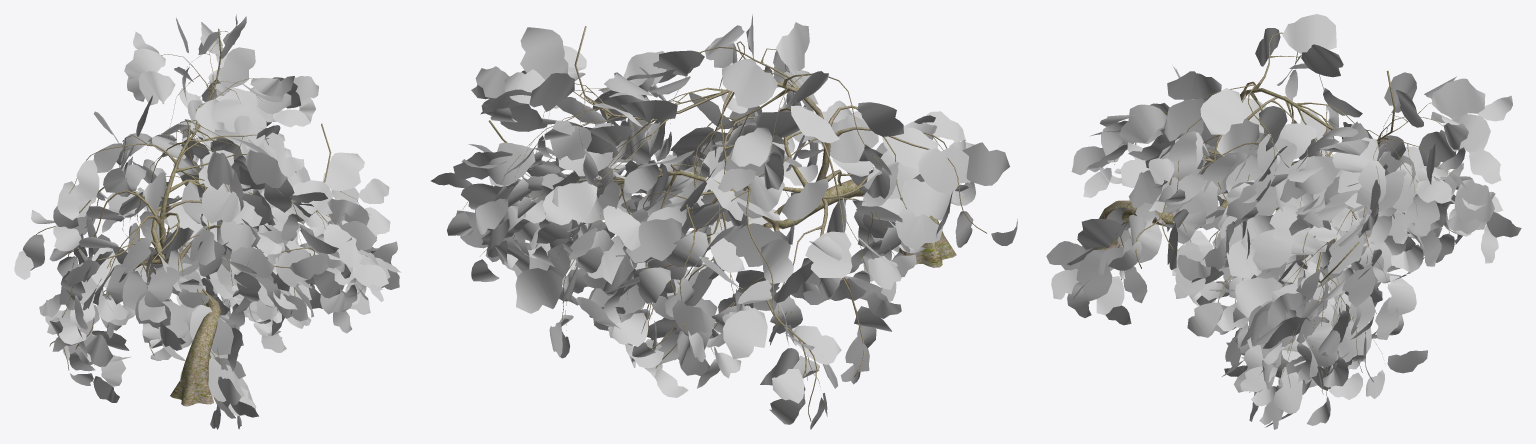
Rendered from Tree_Crinkliness1.fbx.
3 renders of one model, left to right at view 1: azimuth 30°, elevation 25°; view 2: azimuth 150°, elevation 25°; view 3: azimuth 270°, elevation 25°, orthographic. The views are drawn at different scales.
Visible parts, largest first — view 1: branch08_1, mossybark01_0; view 2: branch08_1, mossybark01_0; view 3: branch08_1, mossybark01_0.
Part boxes in pixels (left/top/right/bottom): branch08_1: left=14, top=14, right=401, bottom=429; mossybark01_0: left=36, top=28, right=359, bottom=406; branch08_1: left=431, top=14, right=1017, bottom=429; mossybark01_0: left=462, top=26, right=986, bottom=421; branch08_1: left=1046, top=14, right=1521, bottom=429; mossybark01_0: left=1092, top=32, right=1456, bottom=395.
Size of the model in its own units: 678 by 490 by 609.
1 material, 1 textured.
